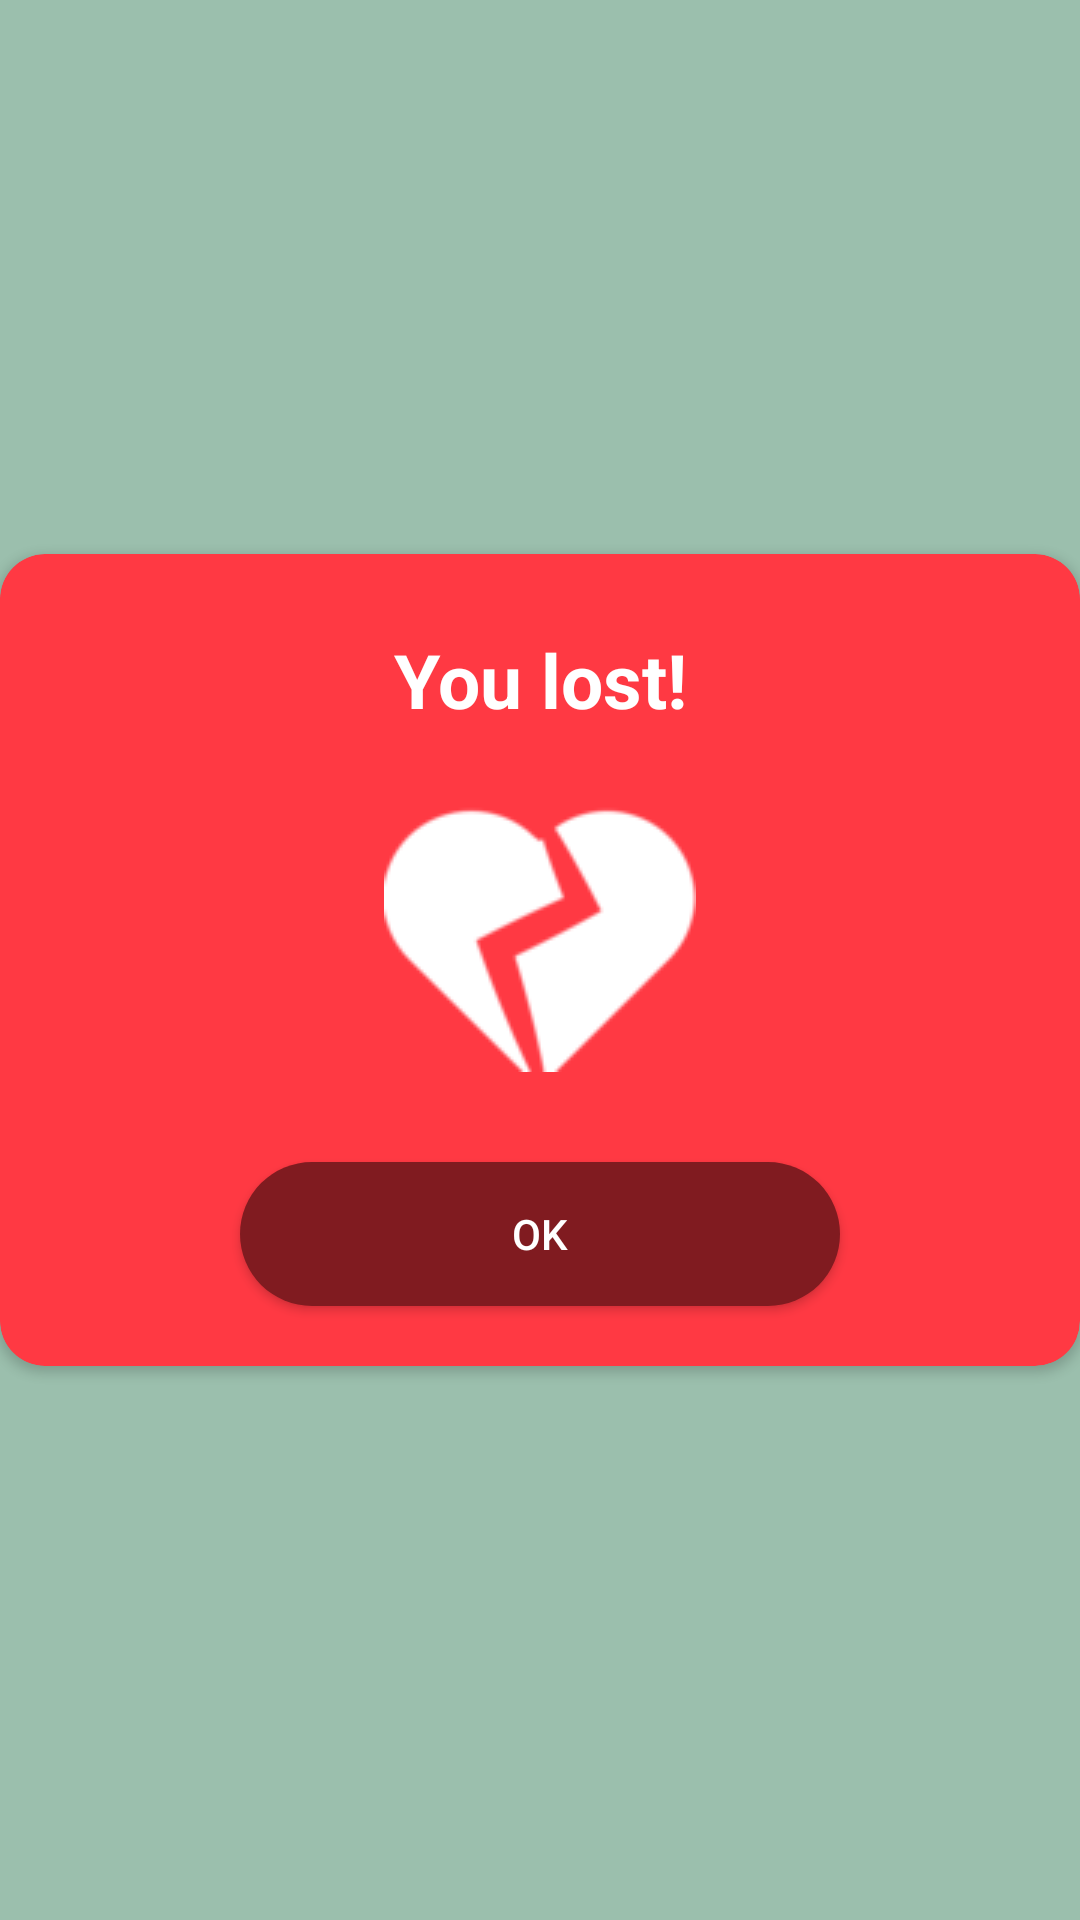

Icon click points for this 1080×1920 phone screenshot, format [x,y]:
broken heart: [540,941]
